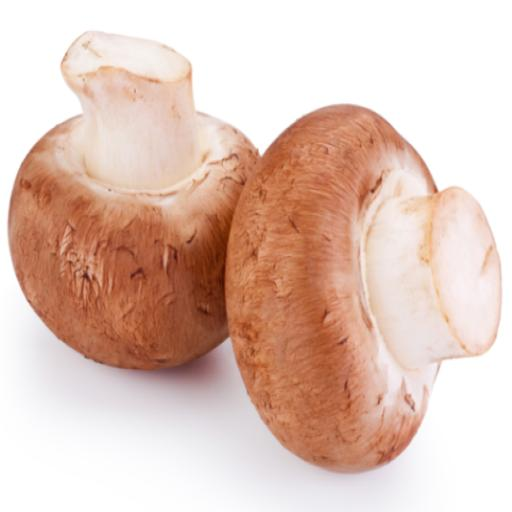Button Mushroom: (228, 104, 504, 480), (9, 24, 249, 379)
